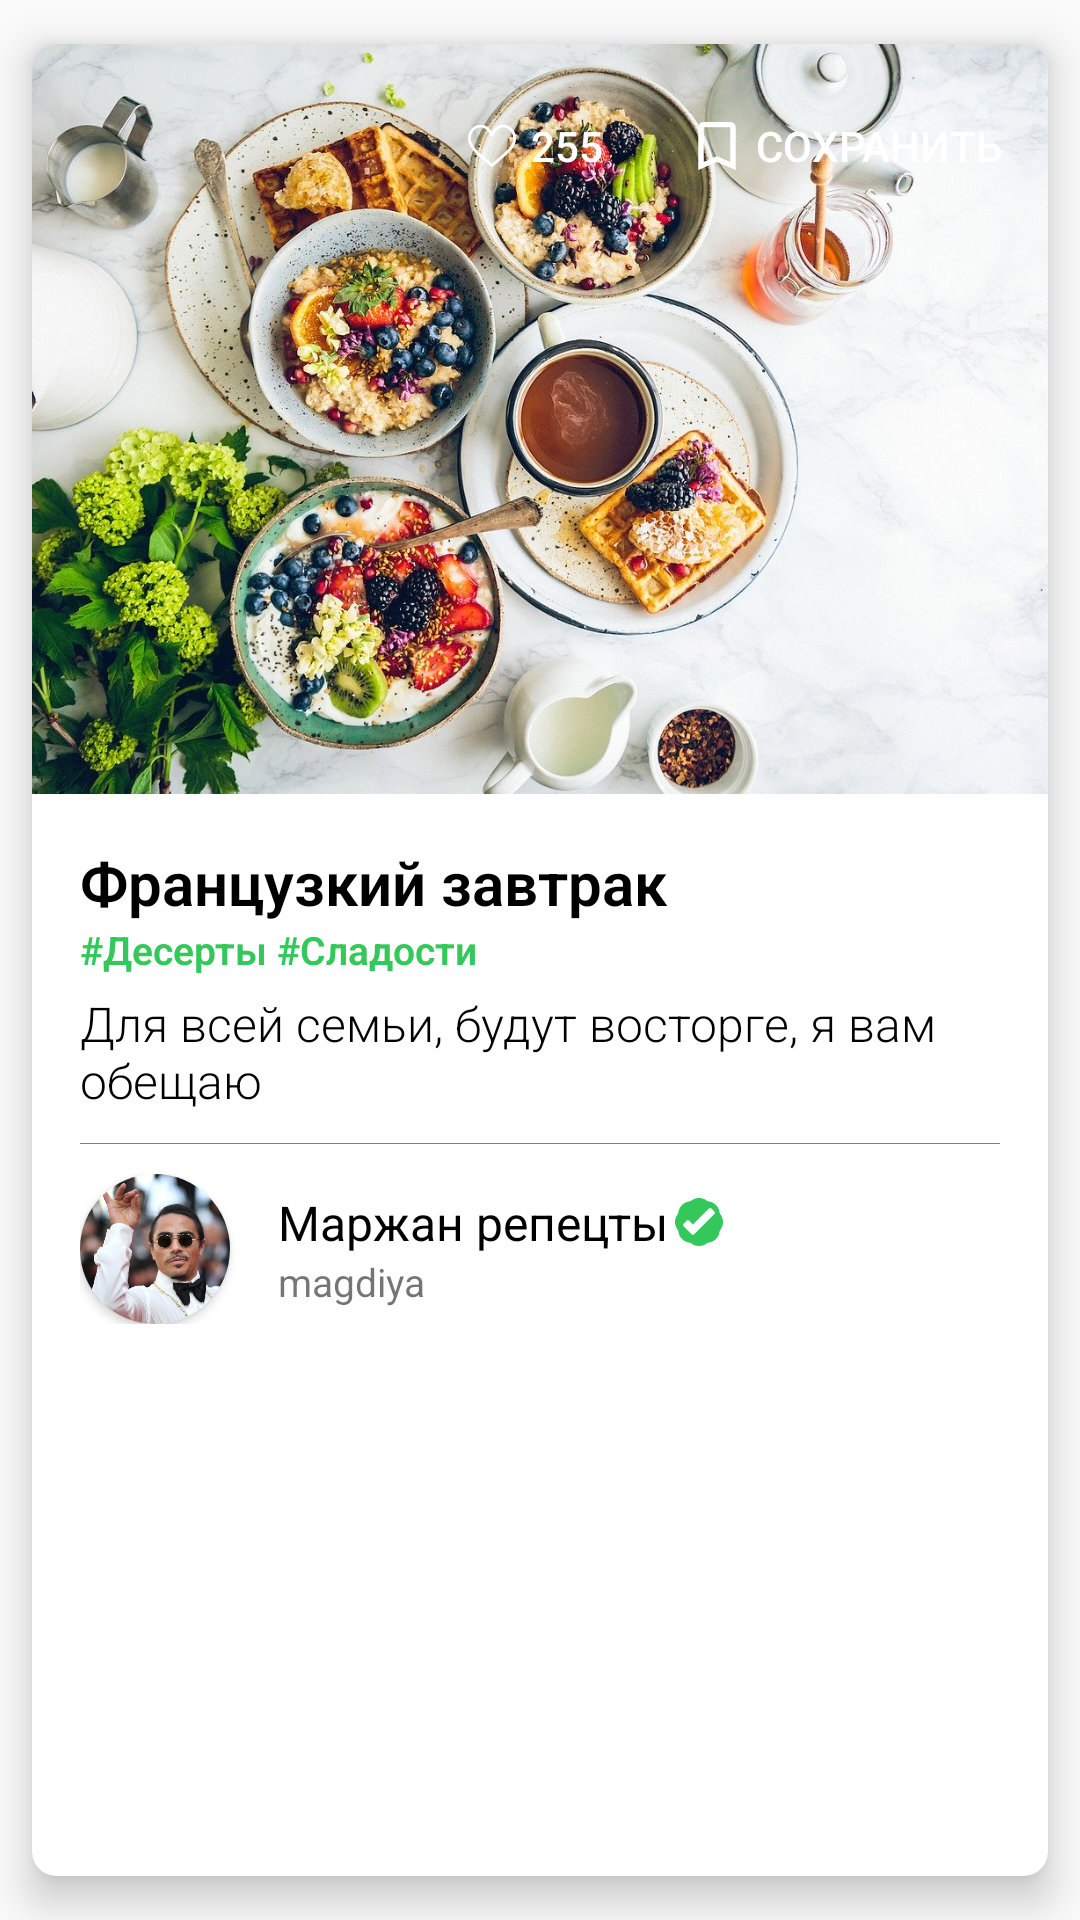

Icon bounding boxes for this 1080 × 1920 phone screenshot, format [x1,y1,x2,y2]:
ava: [80,1174,230,1324]
